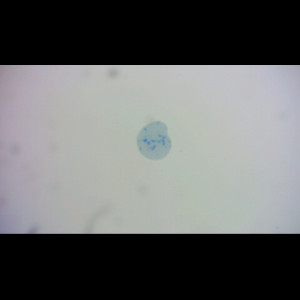aggregate reticulocyte: (135, 119, 173, 161)
